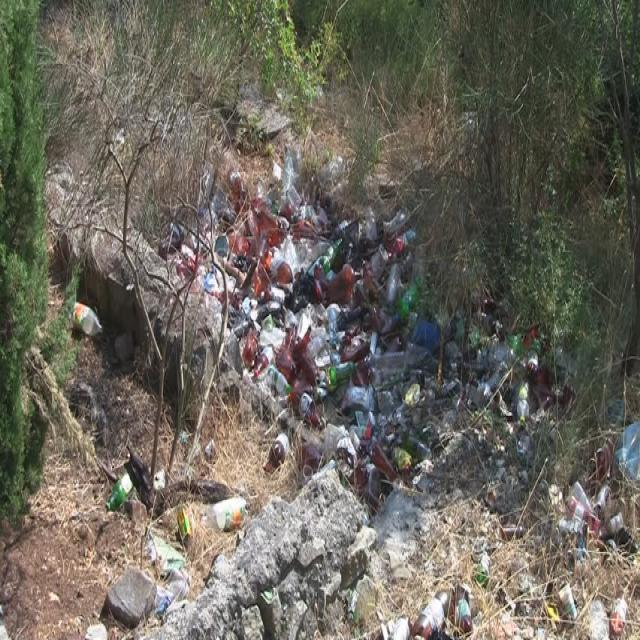trash: (131, 147, 532, 472)
